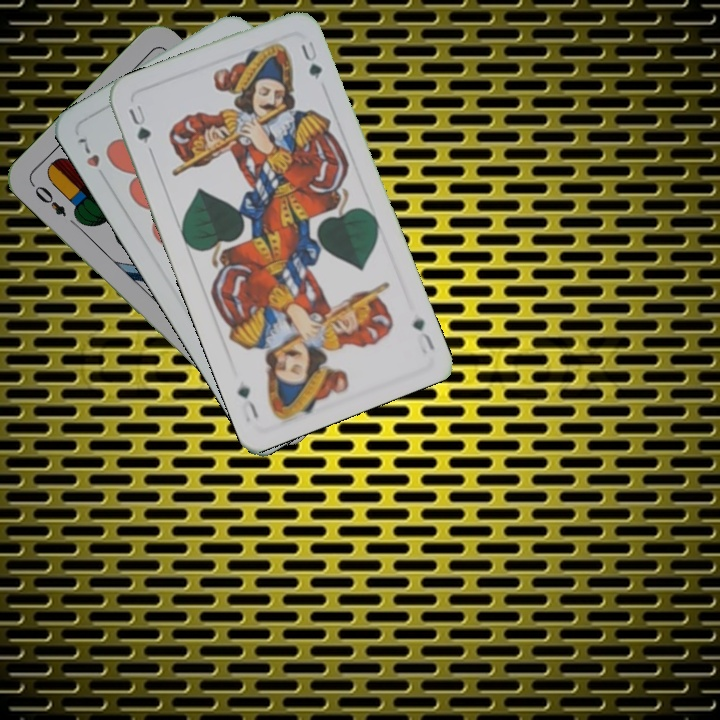EO: (27, 179, 69, 219)
GU: (124, 101, 154, 147), (408, 314, 437, 357)
H7: (73, 131, 110, 184)
